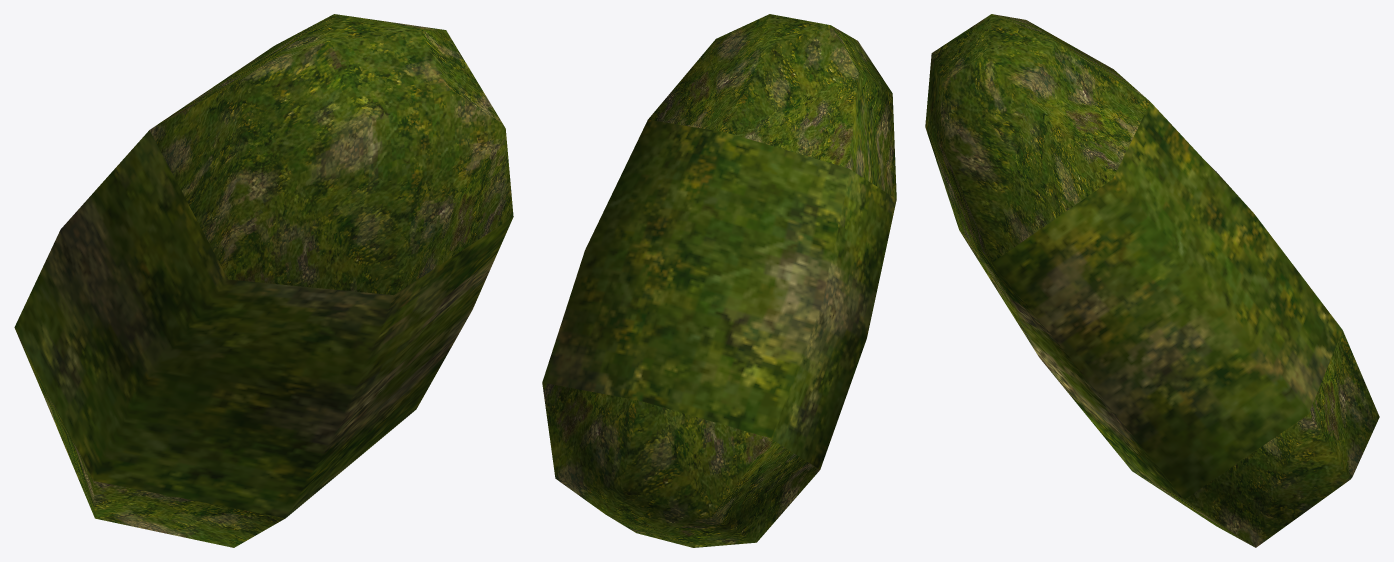
File: OVERHILL_A_01_ROCK_BRIDGE04.fbx
3 views of the same model, side by side, from view 1: azimuth 30°, elevation 25°; view 2: azimuth 150°, elevation 25°; view 3: azimuth 270°, elevation 25° (orthographic). The views are drawn at different scales.
Visible parts, largest first — view 1: OVERHILL_A_01_ROCK_BRIDGE04; view 2: OVERHILL_A_01_ROCK_BRIDGE04; view 3: OVERHILL_A_01_ROCK_BRIDGE04.
Part boxes in pixels (x1=…): OVERHILL_A_01_ROCK_BRIDGE04: x1=14, y1=14, x2=513, y2=547; OVERHILL_A_01_ROCK_BRIDGE04: x1=542, y1=14, x2=896, y2=547; OVERHILL_A_01_ROCK_BRIDGE04: x1=925, y1=14, x2=1379, y2=547.
Bounding box in the file's own units: 9889 × 17453 × 14554.
Materials: 1 (1 with a texture image).
